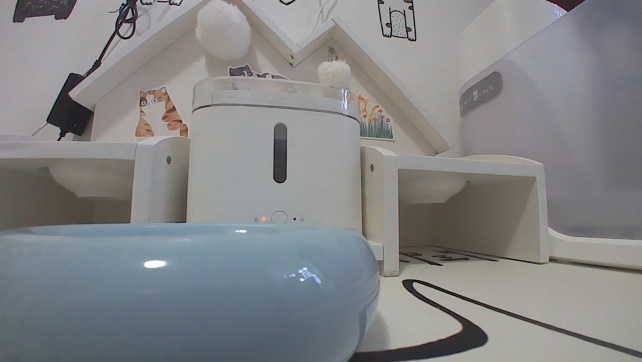wire: (84, 0, 140, 76), (305, 0, 329, 36), (27, 120, 50, 137), (55, 129, 70, 143)
